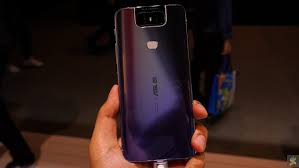asus: (109, 3, 196, 163)
